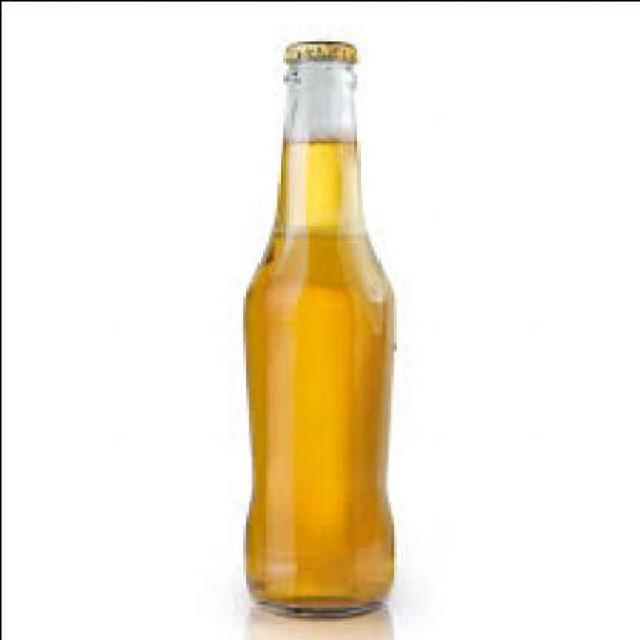GLASS: (238, 54, 392, 612)
METAL: (279, 35, 350, 62)
